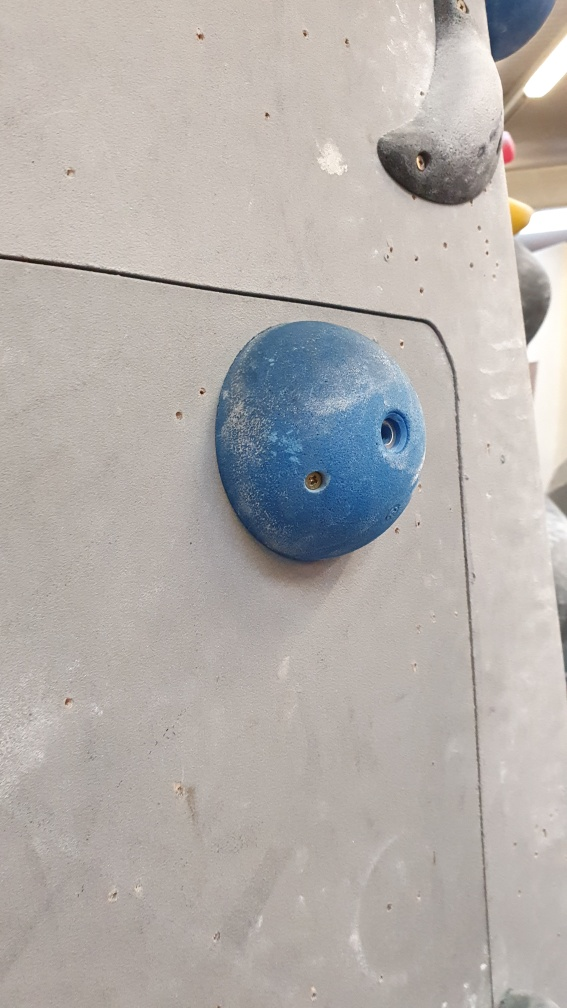Sloper: (210, 315, 429, 564)
